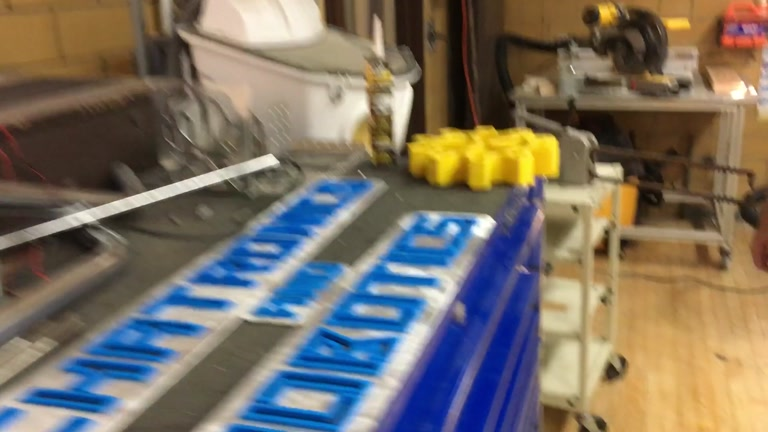gear: (408, 126, 561, 191)
